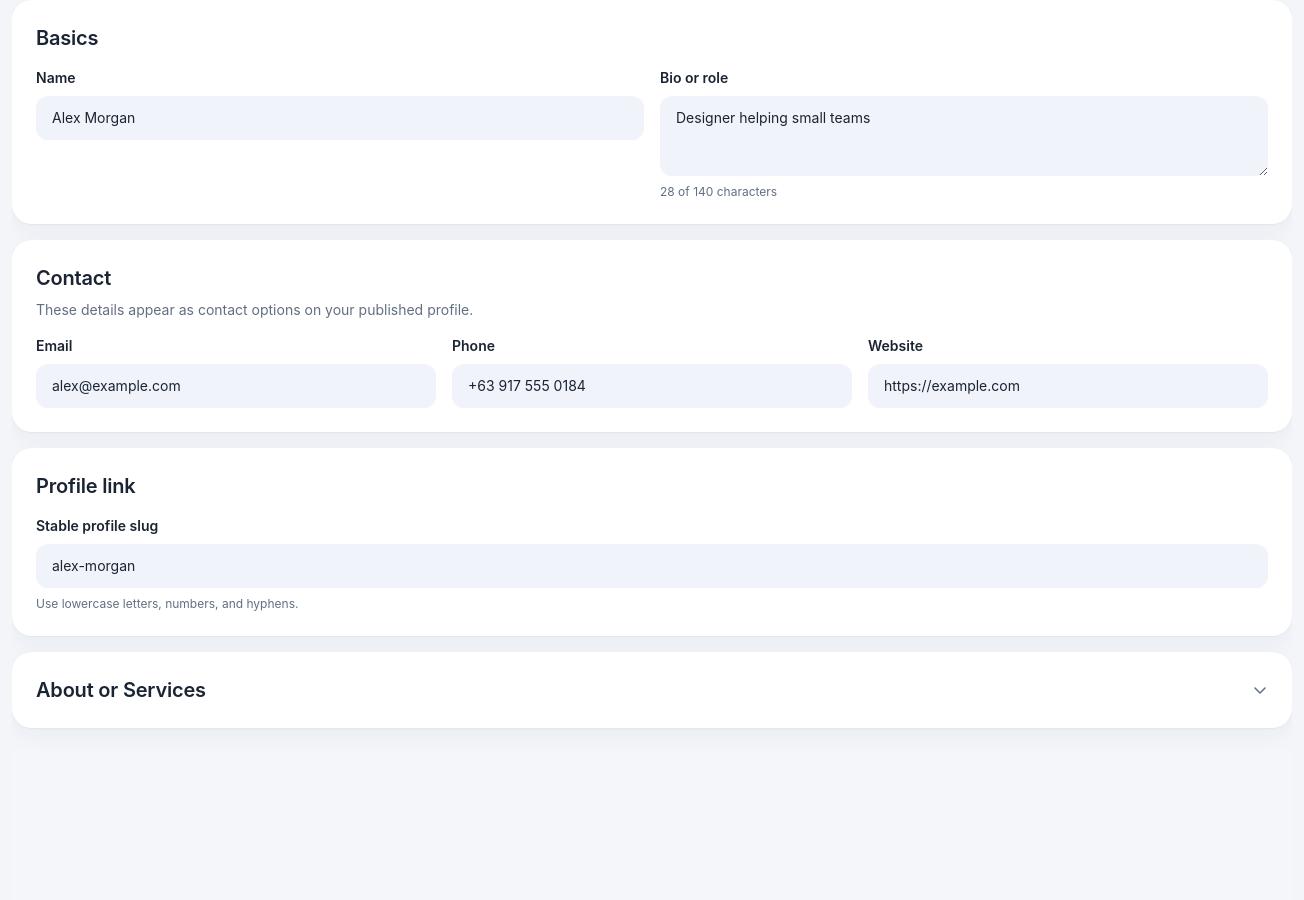
Test case: ProfileDetailsEditor › keeps visual controls in Customize and offers content controls on legacy profiles
The image size is (1304, 900).
Expected: the heading "Basics" is shown, [36, 26, 98, 50]
Expected: the field labelled "Name" is shown, [36, 96, 644, 140]
Step 1. Click the button "About or Services" → (121, 690), box [12, 652, 1292, 728]
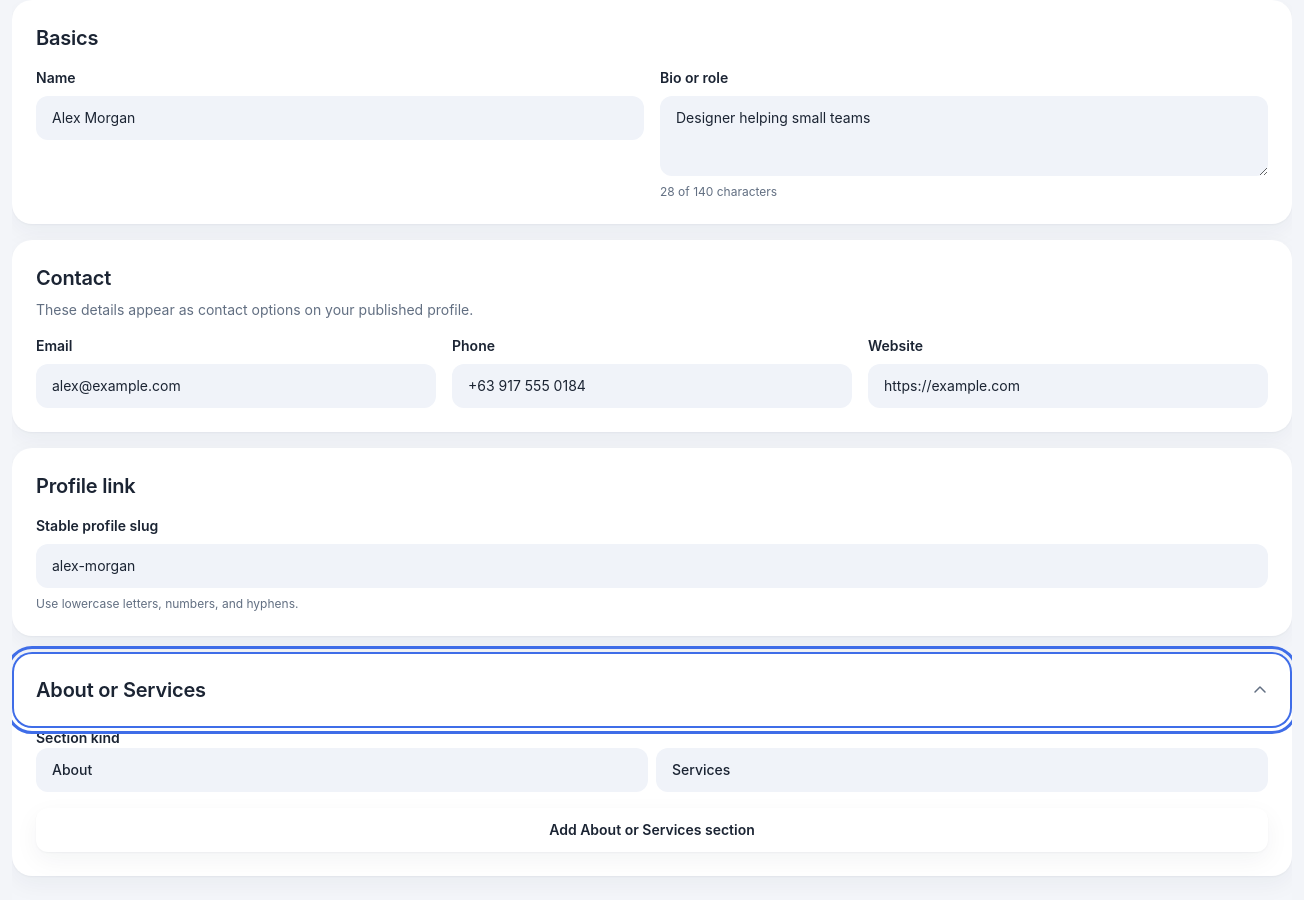
Expected: the button "Add About or Services section" is shown, [36, 808, 1268, 852]
